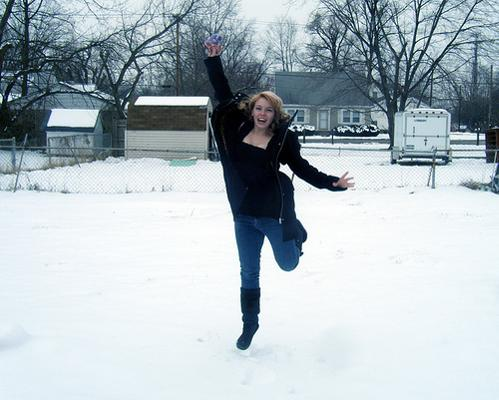person: (201, 42, 347, 351)
